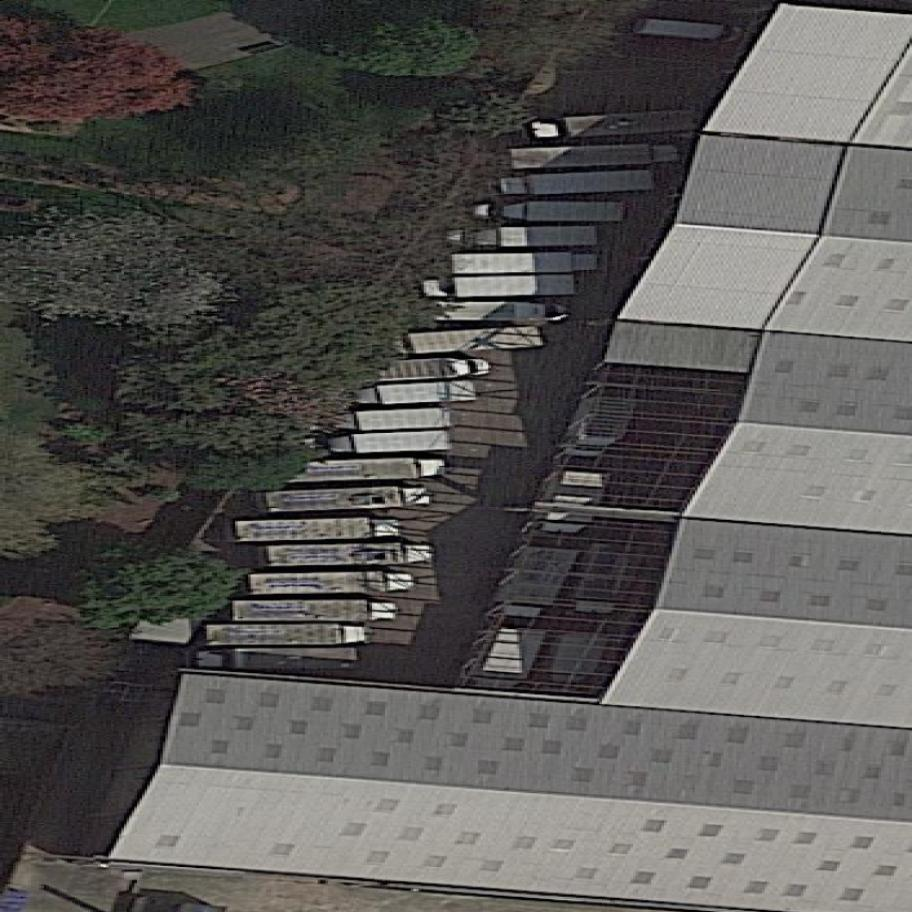large-vehicle: (374, 323, 553, 359), (524, 108, 713, 141), (253, 484, 437, 517), (504, 140, 683, 172), (264, 457, 453, 487), (488, 168, 659, 200), (251, 542, 440, 570), (225, 515, 406, 544), (240, 569, 421, 598), (189, 645, 362, 675), (411, 274, 584, 301), (444, 224, 603, 253), (199, 622, 372, 648), (225, 598, 403, 623), (310, 428, 457, 458), (444, 251, 607, 278), (465, 200, 631, 226), (344, 379, 483, 409), (351, 357, 496, 385), (323, 406, 457, 436), (625, 14, 752, 45), (419, 301, 571, 324)
